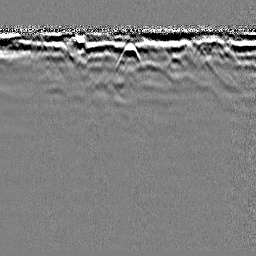cavity: (114, 37, 142, 67)
